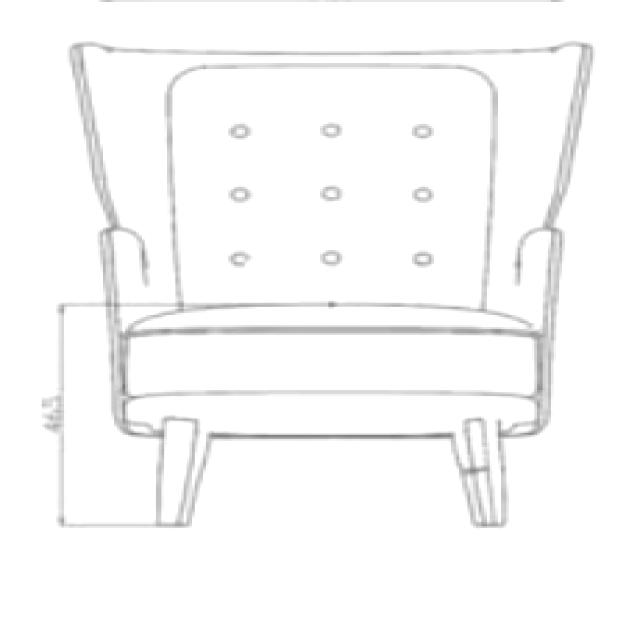Armrest: (97, 226, 180, 336), (480, 229, 565, 332)
Backrest: (162, 50, 503, 331)
Leg_Structure: (109, 395, 553, 532)
Seat: (104, 300, 552, 401)
Wing_Flange: (63, 42, 183, 313), (478, 41, 597, 308)
